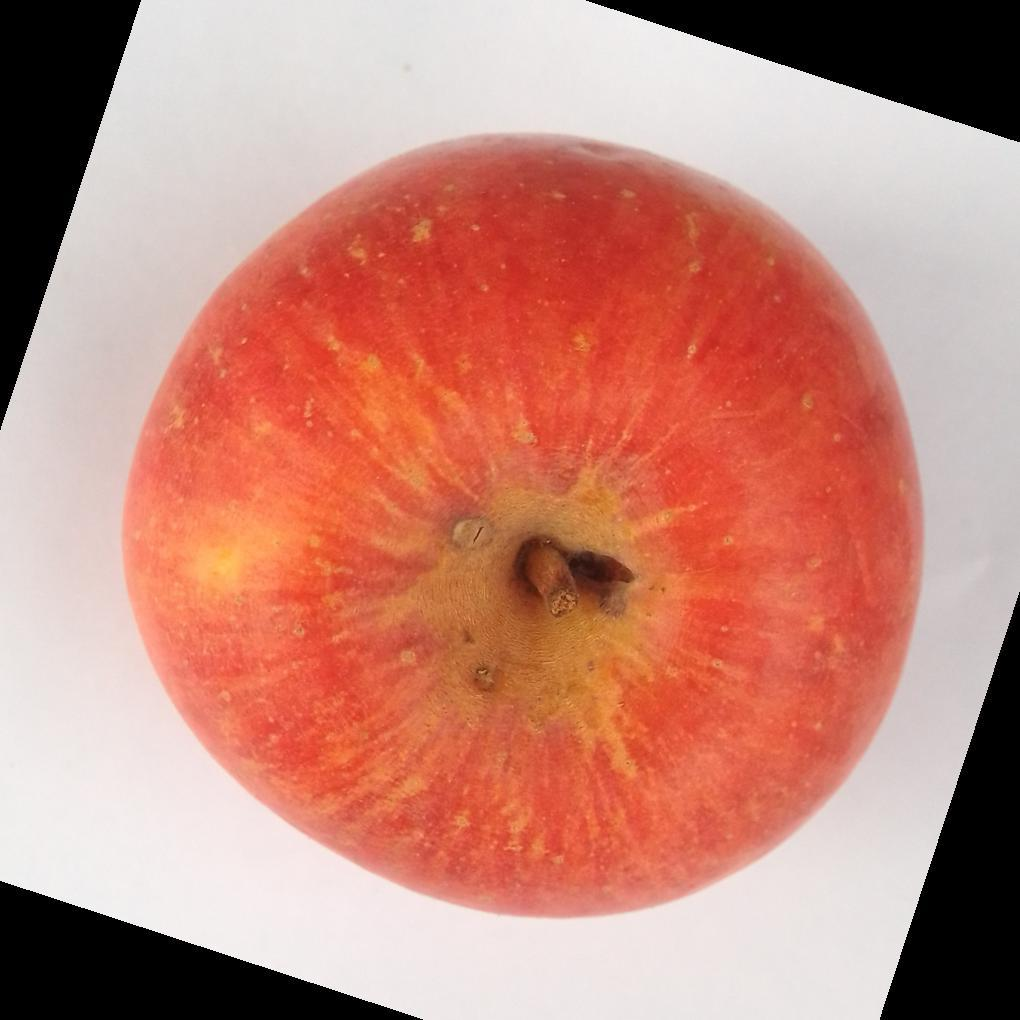FreshGuava: (119, 134, 926, 923)
